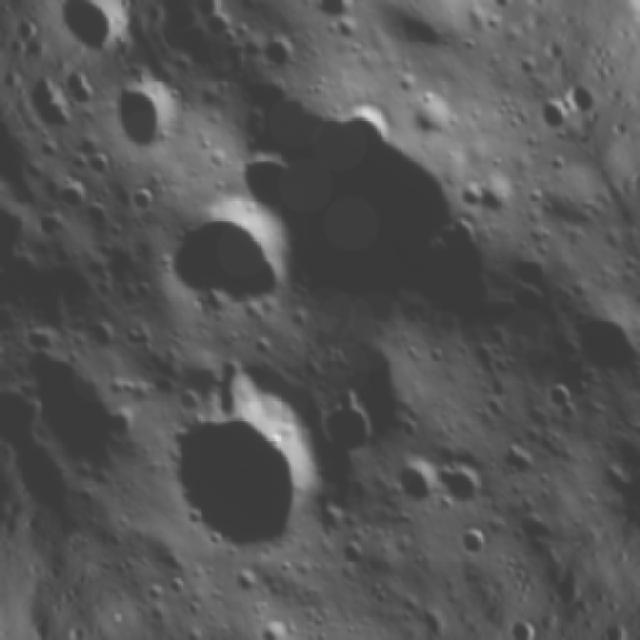crater: (128, 356, 343, 586), (132, 169, 312, 353), (543, 288, 640, 408), (97, 68, 200, 170), (312, 391, 396, 480), (393, 83, 472, 160), (446, 159, 522, 235), (379, 449, 443, 516), (432, 454, 492, 515), (252, 28, 305, 82), (299, 0, 374, 38), (442, 518, 495, 571), (530, 90, 576, 142), (120, 177, 166, 223), (54, 174, 94, 214), (34, 207, 72, 248), (81, 198, 117, 234), (82, 148, 115, 185)
